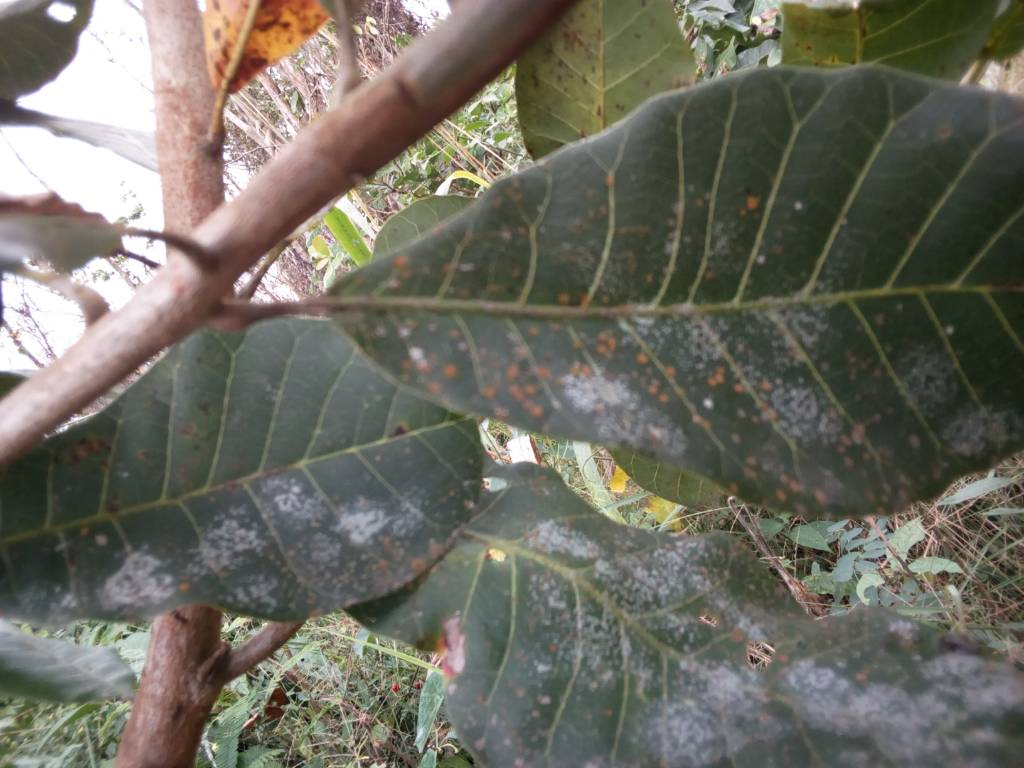Rouille: (345, 57, 1020, 490), (440, 448, 1024, 768), (45, 309, 481, 627)
